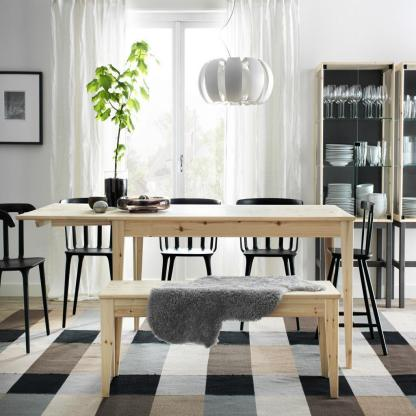Chair: (0, 202, 52, 355)
Table: (110, 202, 355, 372), (99, 280, 342, 404)
